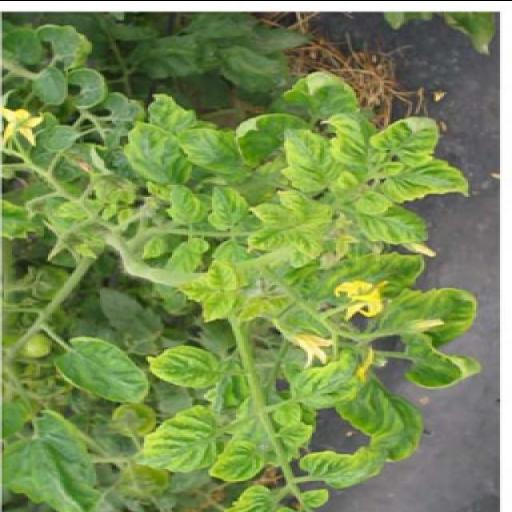disease_tomato: (136, 401, 238, 471), (384, 278, 474, 345), (374, 96, 448, 166), (120, 116, 198, 182), (402, 330, 484, 390), (144, 332, 230, 388), (296, 350, 376, 408), (280, 124, 340, 192), (300, 448, 404, 486), (354, 200, 434, 244), (212, 433, 262, 483), (210, 180, 252, 230), (248, 212, 292, 252), (294, 220, 336, 260), (206, 288, 242, 324), (214, 246, 244, 287)
